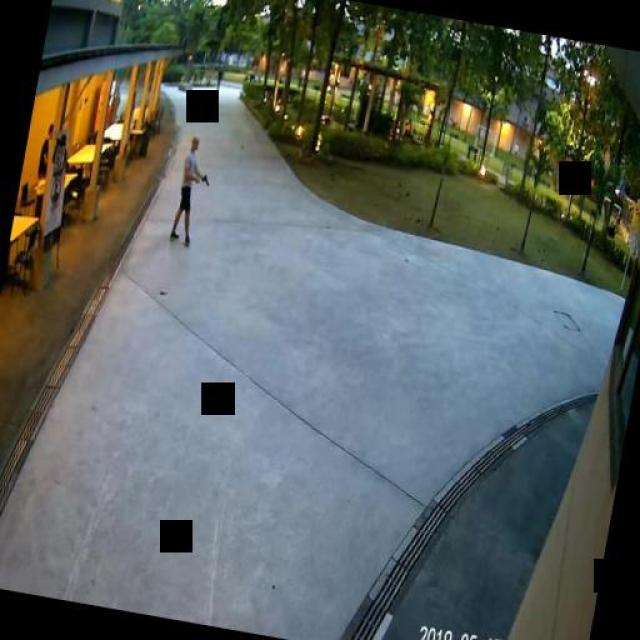gun: (200, 170, 209, 185)
